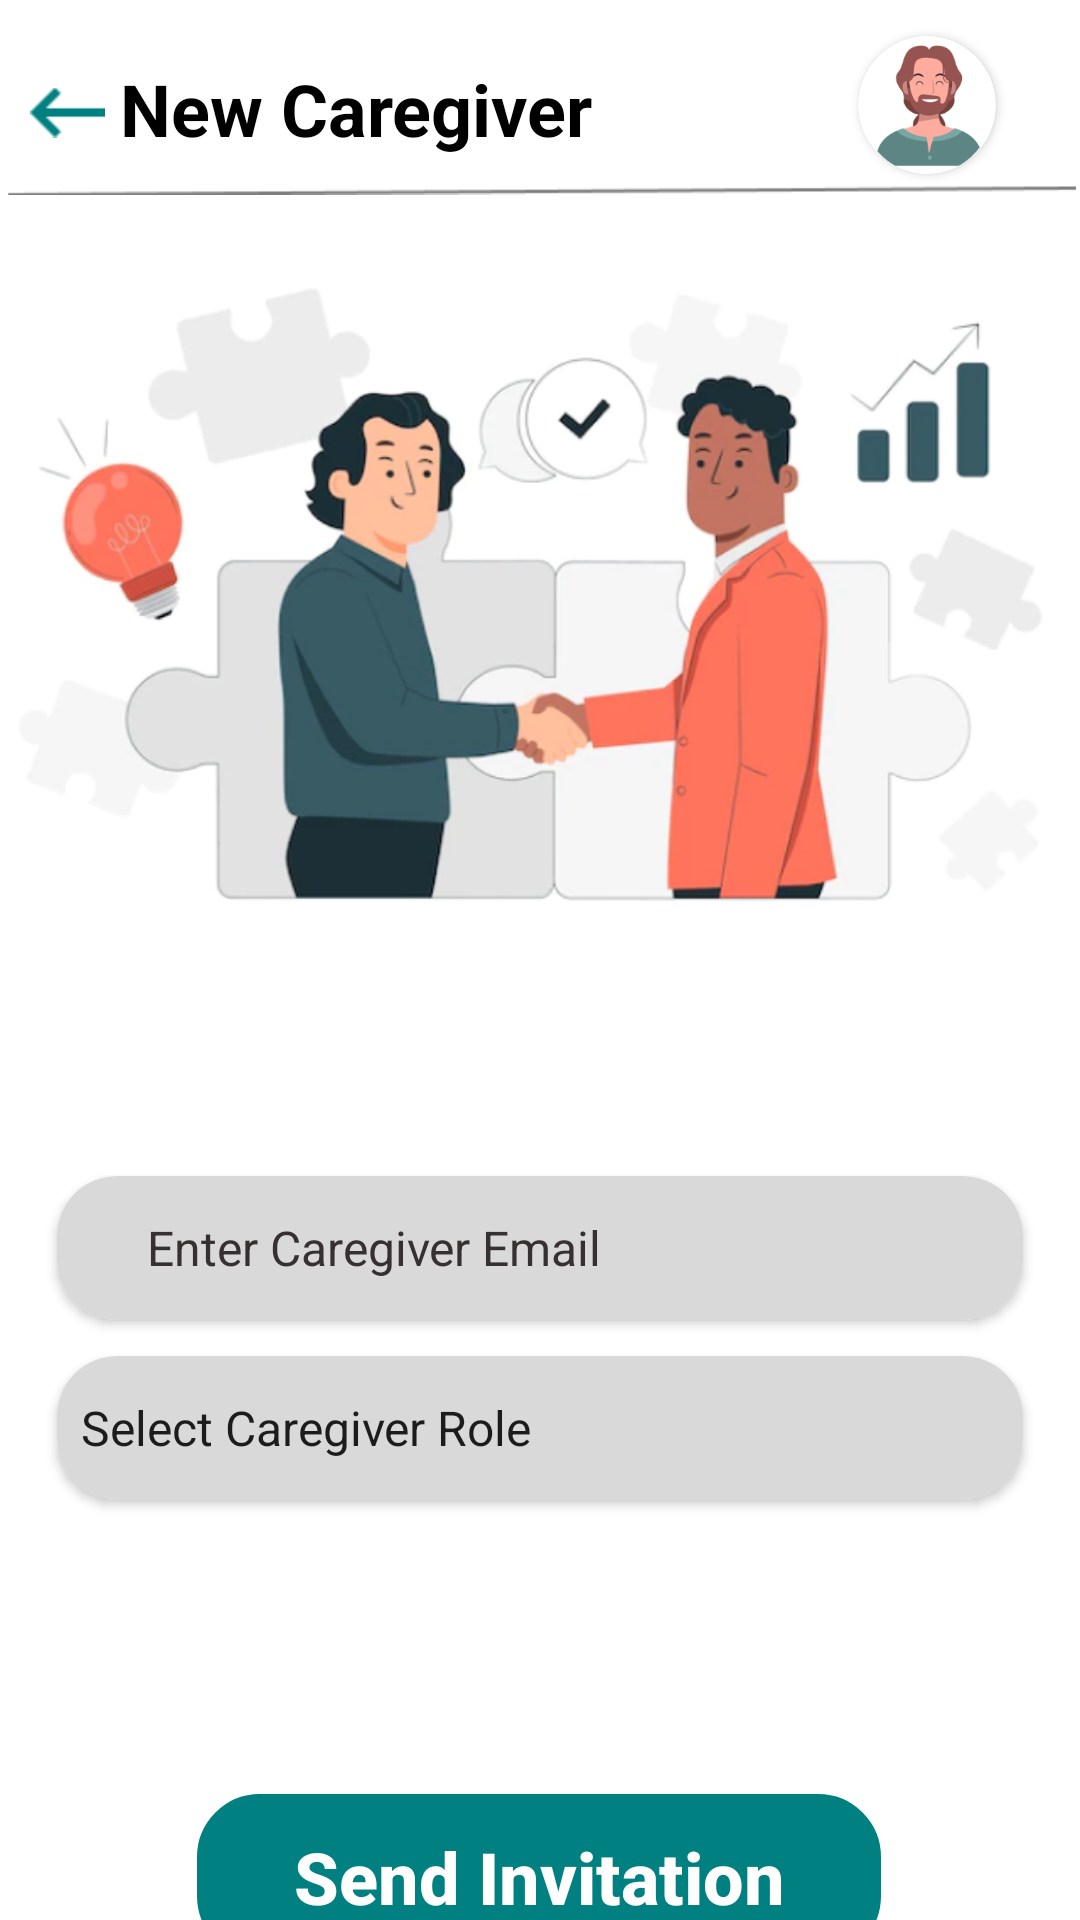

Screen size 1080px x 1920px. Icon name, then its center in pixels as point (x, y):
greenback: point (67, 113)
user: point (936, 106)
